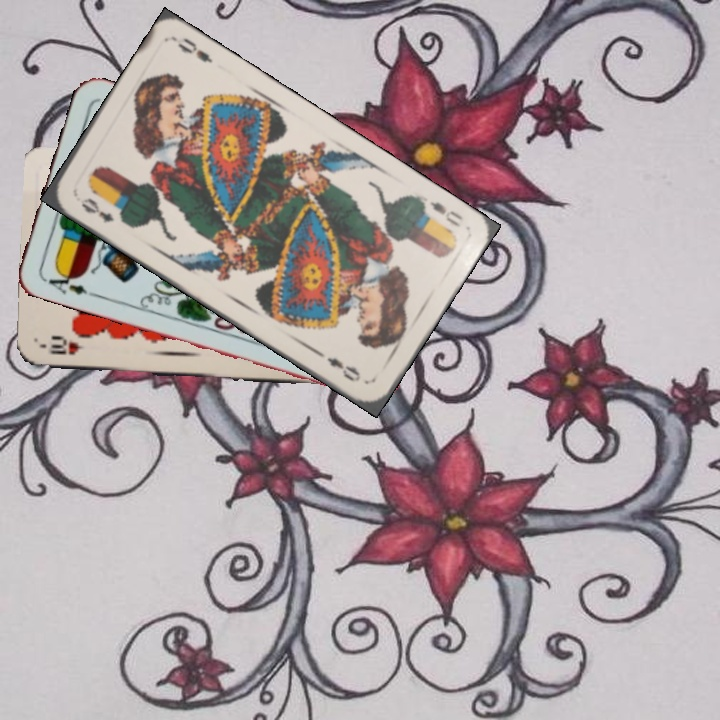EA: (40, 265, 98, 300)
EO: (425, 197, 465, 230), (76, 193, 117, 225)
H10: (45, 339, 87, 358)
